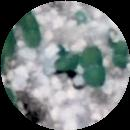Basil: (78, 44, 106, 88), (25, 16, 42, 51), (50, 50, 80, 69), (113, 36, 130, 69)
